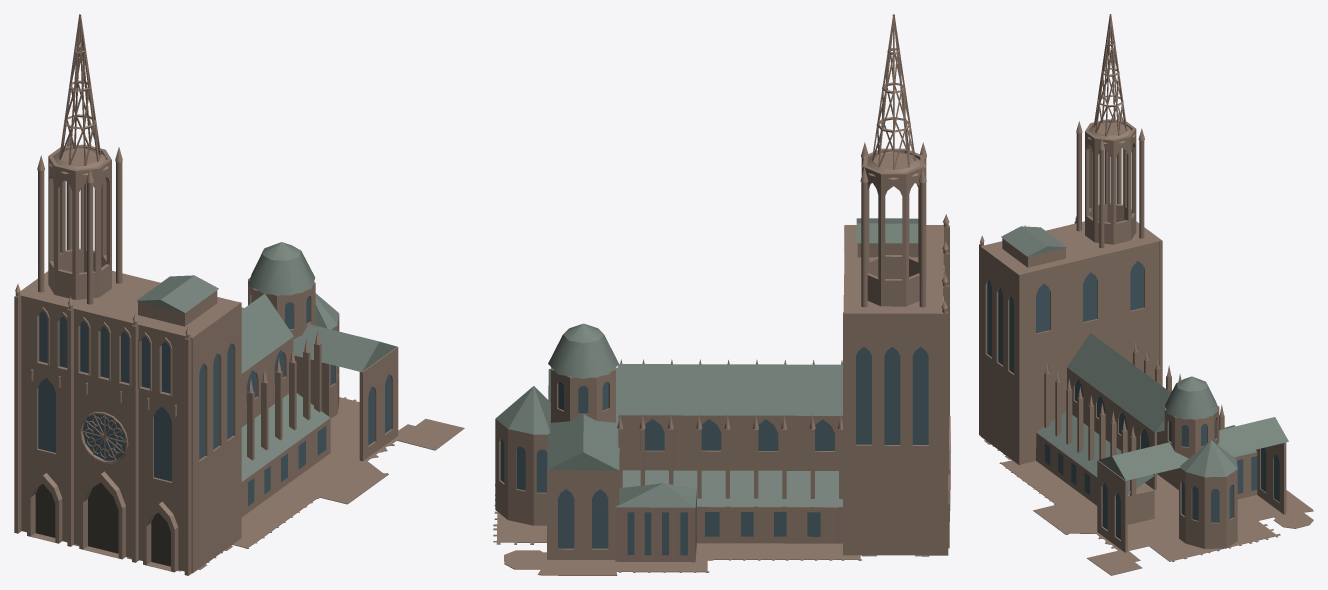
The model's file is cathedrale-notre-dame-strasbourg-far.glb.
The picture shows the model from 3 angles, left to right: view 1: azimuth 30°, elevation 25°; view 2: azimuth 150°, elevation 25°; view 3: azimuth 270°, elevation 25°; orthographic projection. The views are drawn at different scales.
Visible parts, largest first — view 1: cathedrale-notre-dame-strasbourg-0-stone, cathedrale-notre-dame-strasbourg-0-roof, cathedrale-notre-dame-strasbourg-0-glass, cathedrale-notre-dame-strasbourg-0-shadow, cathedrale-notre-dame-strasbourg-0-spireFrame; view 2: cathedrale-notre-dame-strasbourg-0-stone, cathedrale-notre-dame-strasbourg-0-roof, cathedrale-notre-dame-strasbourg-0-glass, cathedrale-notre-dame-strasbourg-0-spireFrame; view 3: cathedrale-notre-dame-strasbourg-0-stone, cathedrale-notre-dame-strasbourg-0-roof, cathedrale-notre-dame-strasbourg-0-glass, cathedrale-notre-dame-strasbourg-0-spireFrame.
Boxes of the visible parts, x1,y1,x2,y2 form: cathedrale-notre-dame-strasbourg-0-stone: (14,136,464,575); cathedrale-notre-dame-strasbourg-0-roof: (136,242,396,481); cathedrale-notre-dame-strasbourg-0-glass: (38,295,391,505); cathedrale-notre-dame-strasbourg-0-shadow: (35,482,170,566); cathedrale-notre-dame-strasbourg-0-spireFrame: (59,15,100,165); cathedrale-notre-dame-strasbourg-0-stone: (493,142,950,575); cathedrale-notre-dame-strasbourg-0-roof: (495,218,918,507); cathedrale-notre-dame-strasbourg-0-glass: (500,347,928,555); cathedrale-notre-dame-strasbourg-0-spireFrame: (871,15,915,169); cathedrale-notre-dame-strasbourg-0-stone: (979,112,1313,575); cathedrale-notre-dame-strasbourg-0-roof: (1001,226,1288,494); cathedrale-notre-dame-strasbourg-0-glass: (987,261,1279,539); cathedrale-notre-dame-strasbourg-0-spireFrame: (1093,15,1127,136).
Bounding box in the file's own units: 130 × 142 × 105.
